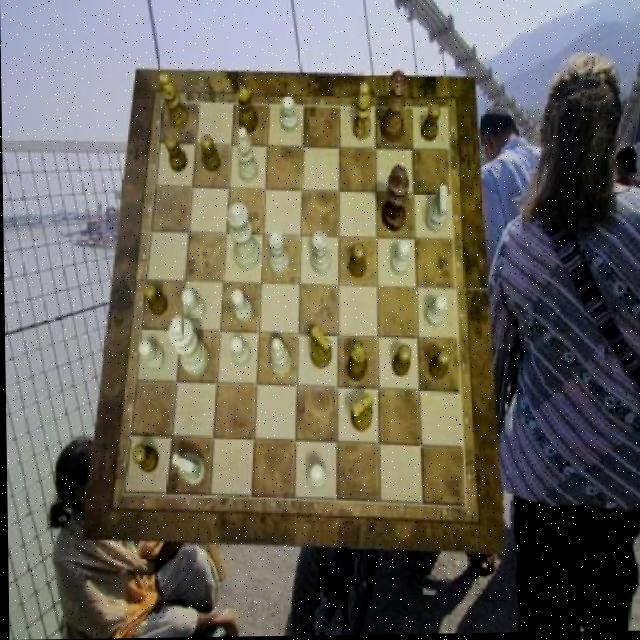bishop: (160, 73, 188, 131), (353, 82, 371, 140)
black-bishop: (381, 166, 409, 234)
black-king: (309, 327, 332, 370), (348, 394, 371, 432)
black-knight: (164, 135, 187, 173), (142, 283, 165, 317), (199, 136, 219, 174), (421, 104, 440, 143), (426, 349, 449, 381), (130, 446, 156, 474), (390, 346, 410, 379), (347, 245, 365, 279)
black-pawn: (380, 72, 408, 145)
black-queen: (236, 87, 257, 136), (345, 343, 366, 384)
black-rook: (236, 128, 256, 183), (268, 340, 291, 379)
white-bishop: (167, 318, 207, 378)
white-king: (171, 454, 204, 487), (424, 187, 447, 234)
white-knight: (136, 339, 163, 372), (180, 288, 204, 322), (230, 288, 252, 323), (424, 296, 447, 329), (389, 242, 409, 276), (227, 339, 249, 367), (280, 97, 297, 133), (306, 464, 326, 490)
white-pawn: (226, 203, 260, 271)
white-queen: (267, 231, 288, 275), (309, 231, 329, 274)
